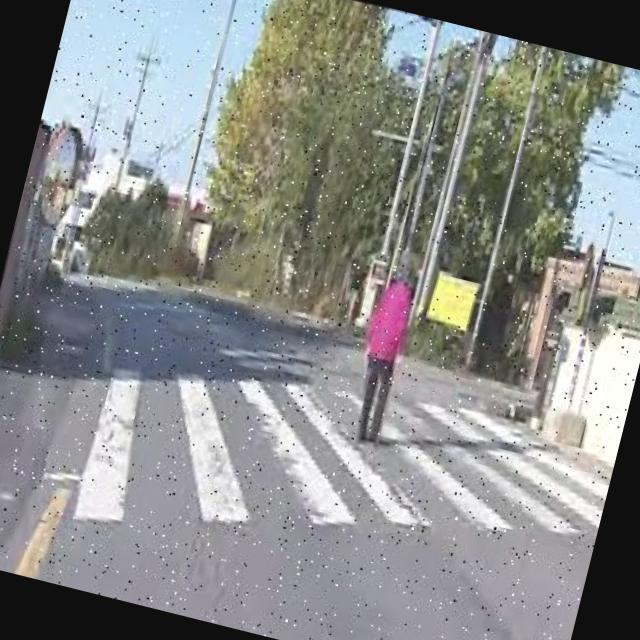Person: (340, 244, 430, 447)
